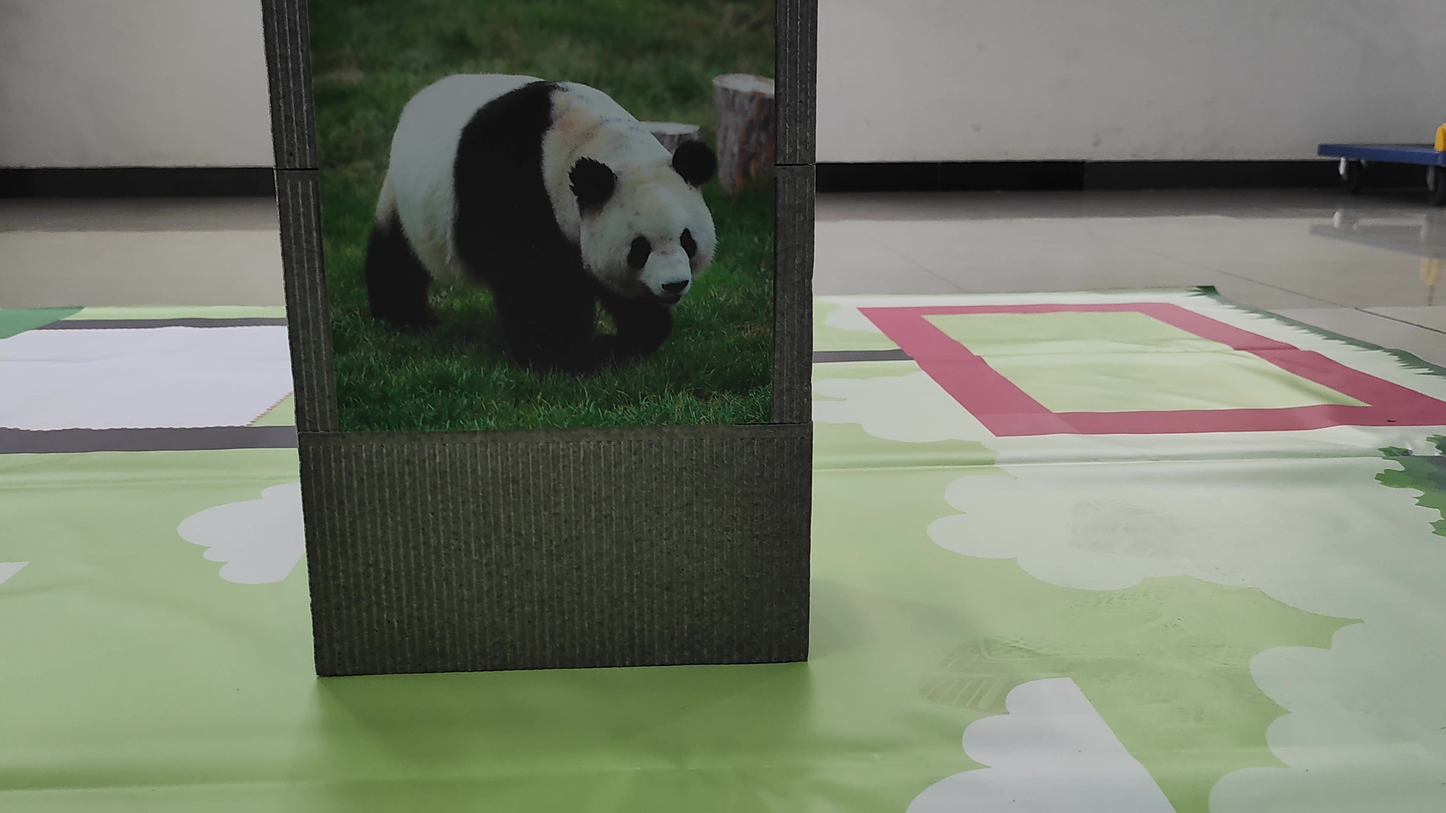panda: (347, 38, 734, 380)
